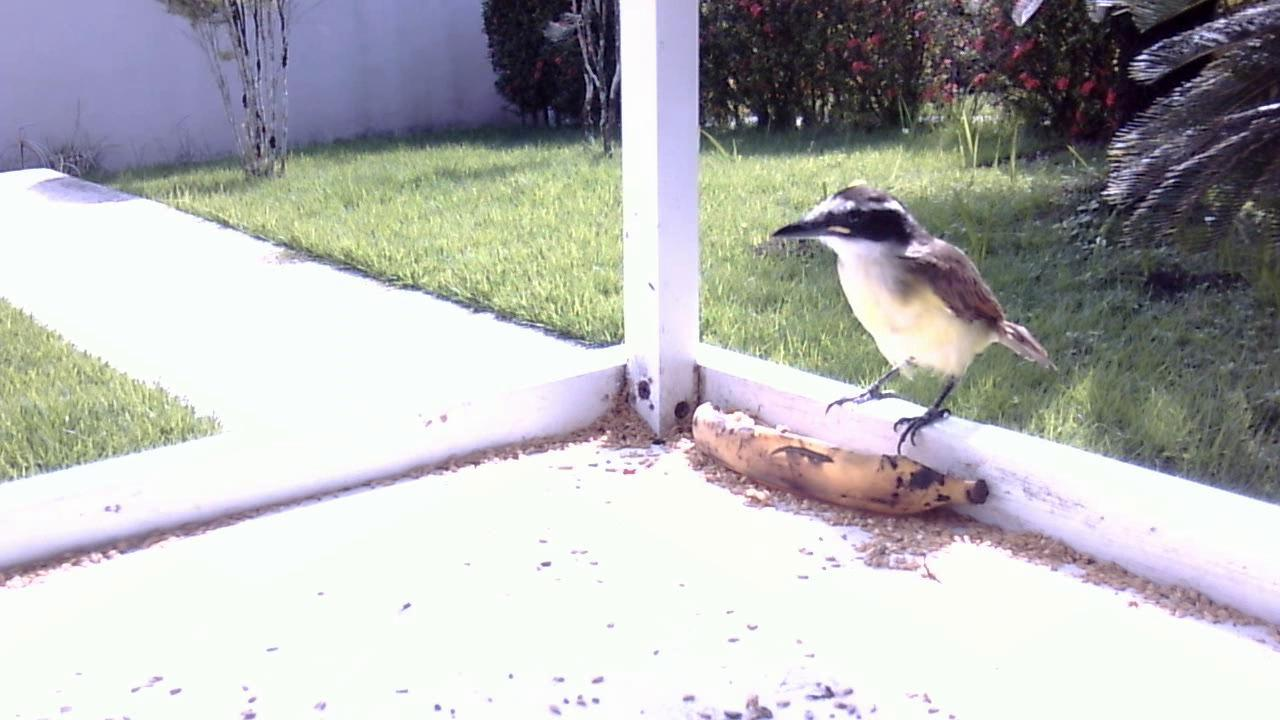bem_te_vi: (747, 174, 1055, 474)
